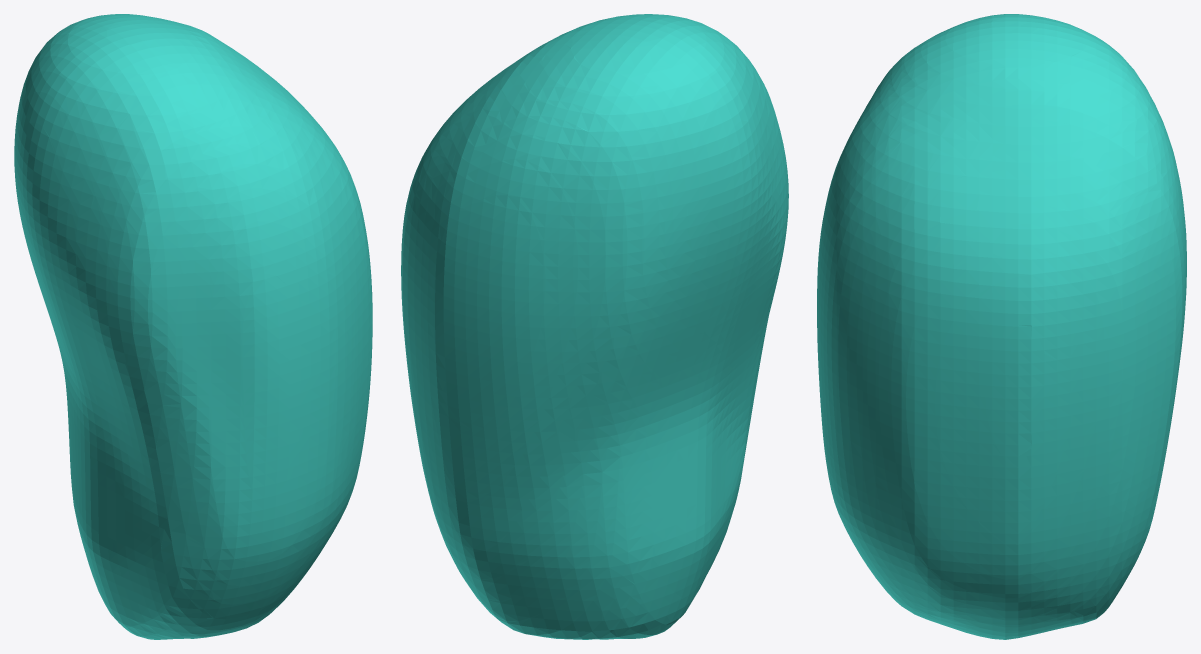
File: hand_part_6.glb
3 views of the same model, side by side, from view 1: azimuth 30°, elevation 25°; view 2: azimuth 150°, elevation 25°; view 3: azimuth 270°, elevation 25° (orthographic). The views are drawn at different scales.
Size of the model in its own units: 0.0158 by 0.0288 by 0.0166.
